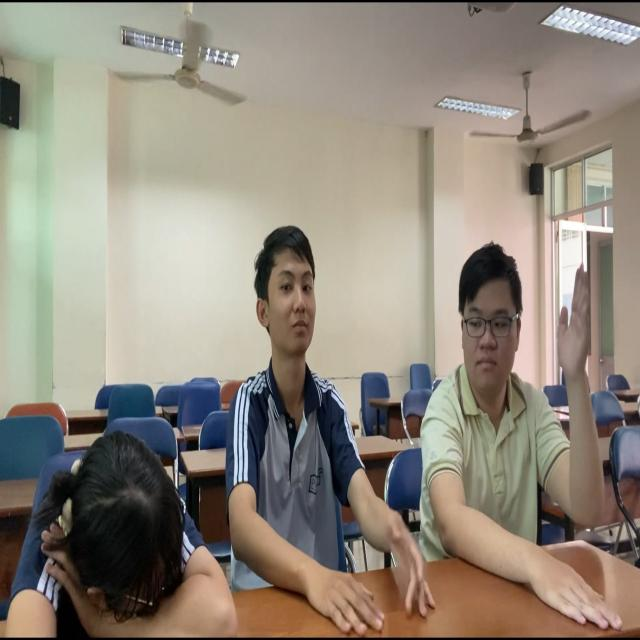raise_hand: (396, 224, 635, 640)
sleep: (4, 392, 269, 640)
